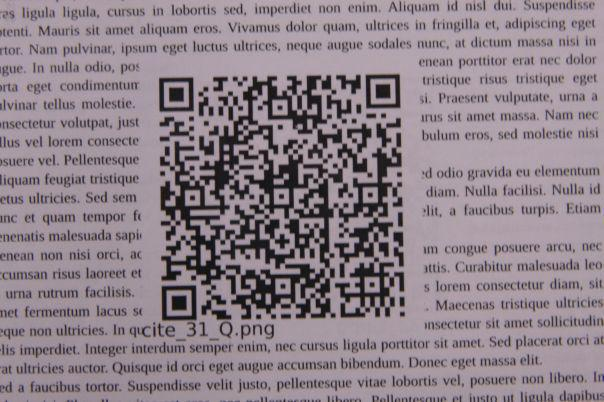Finder pattern: (155, 74, 199, 114), (159, 282, 200, 323), (363, 71, 405, 109)
